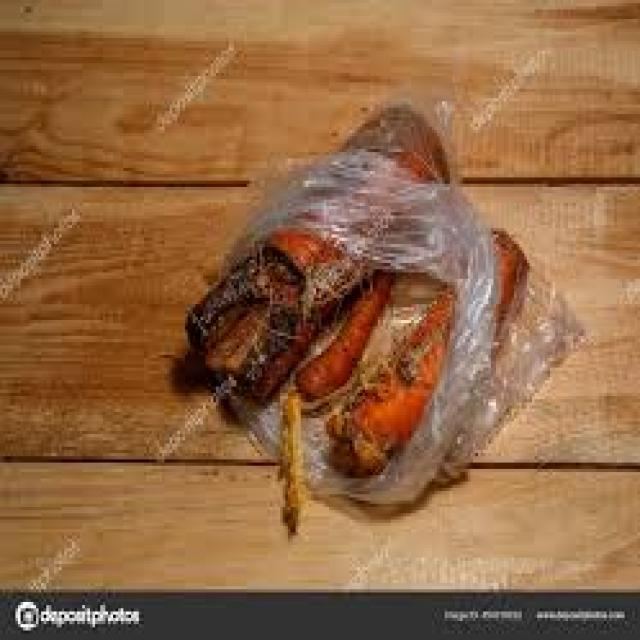Stale_Carrot: (295, 266, 413, 401)
